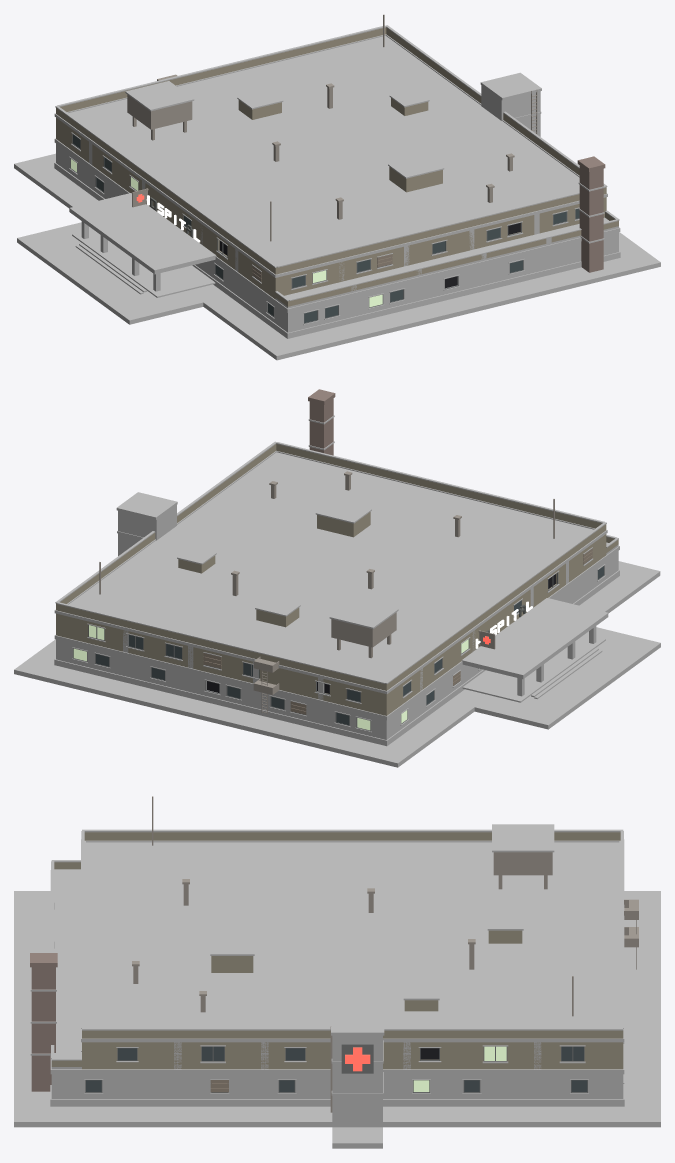
File: hospital_exterior.gltf
The picture shows the model from 3 angles, top to bottom: view 1: azimuth 30°, elevation 25°; view 2: azimuth 150°, elevation 25°; view 3: azimuth 270°, elevation 25°; orthographic projection. The views are drawn at different scales.
Parts seen in each view (by area): view 1: ext_00_04, ext_01_04, ext_02_04, ext_00_00, ext_-1_02, ext_00_03, ext_00_02, ext_03_04, ext_00_01, ext_02_00, ext_-1_01, ext_02_01 (+16 smaller); view 2: ext_00_00, ext_02_00, ext_01_00, ext_-1_01, ext_-1_02, ext_00_03, ext_00_02, ext_02_02, ext_00_01, ext_03_00, ext_01_02, ext_02_01 (+19 smaller); view 3: ext_03_01, ext_03_02, ext_03_00, ext_03_03, ext_00_00, ext_00_02, ext_00_03, ext_00_01, ext_02_02, ext_03_04, ext_02_03, ext_01_00 (+13 smaller).
Boxes of the visible parts, x1,y1,x2,y2 form: ext_00_04: (274, 243, 397, 353); ext_01_04: (369, 220, 492, 330); ext_02_04: (464, 197, 586, 307); ext_00_00: (56, 81, 204, 198); ext_-1_02: (71, 186, 219, 311); ext_00_03: (219, 201, 359, 322); ext_00_02: (165, 171, 313, 282); ext_03_04: (559, 156, 660, 284); ext_00_01: (110, 131, 259, 216); ext_02_00: (245, 37, 393, 108); ext_-1_01: (23, 146, 164, 271); ext_02_01: (300, 83, 448, 148); ext_00_00: (292, 598, 441, 739); ext_02_00: (103, 583, 251, 693); ext_01_00: (197, 597, 333, 716); ext_-1_01: (441, 603, 589, 727); ext_-1_02: (496, 563, 644, 688); ext_00_03: (456, 499, 604, 603); ext_00_02: (402, 549, 550, 633); ext_02_02: (212, 503, 360, 565); ext_00_01: (380, 589, 495, 699); ext_03_00: (29, 562, 157, 670); ext_01_02: (307, 510, 455, 588); ext_02_01: (158, 543, 305, 605); ext_03_01: (354, 998, 488, 1134); ext_03_02: (220, 1008, 354, 1134); ext_03_00: (488, 976, 623, 1127); ext_03_03: (85, 992, 219, 1127); ext_00_00: (488, 824, 623, 897); ext_00_02: (220, 830, 354, 897); ext_00_03: (85, 796, 219, 897); ext_00_01: (354, 830, 488, 897); ext_02_02: (220, 935, 354, 1011); ext_03_04: (14, 953, 85, 1127); ext_02_03: (85, 935, 219, 1011); ext_01_00: (488, 887, 623, 954).
Size of the model in its own units: 83.5 by 17.7 by 77.
